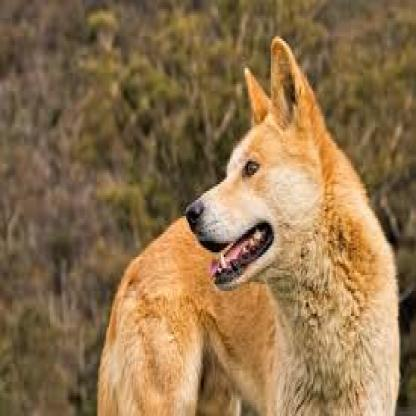dog: (59, 31, 407, 410)
